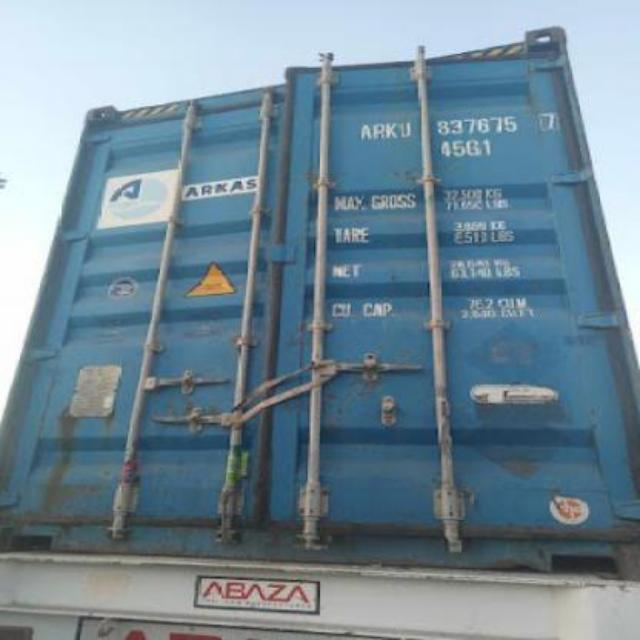3: (450, 119, 466, 135)
5: (502, 112, 518, 134)
6: (476, 117, 489, 135)
7: (538, 112, 560, 134), (491, 116, 504, 132), (466, 117, 476, 137)
8: (436, 120, 448, 136)
A: (356, 120, 372, 142)
K: (384, 122, 398, 140)
R: (374, 123, 386, 139)
U: (398, 120, 412, 140)
